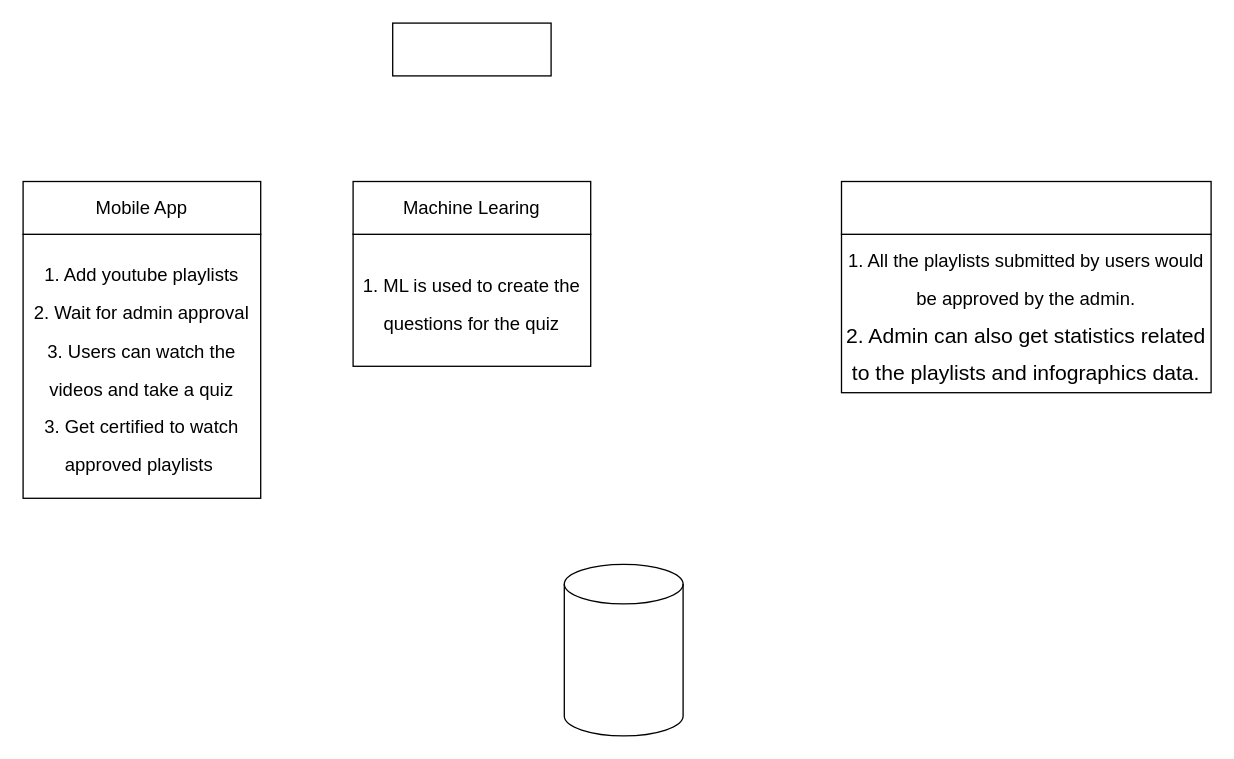
This 1234x759 diagram has some shape labels left out. The shapes that lost their labels are listed below. From the top down, each one's centre as x and y in pixels, then its label:
At [471,49]: "GoalTube".
At [1025,207]: "Admin Panel".
At [623,649]: "Common Database (Firebase)".
